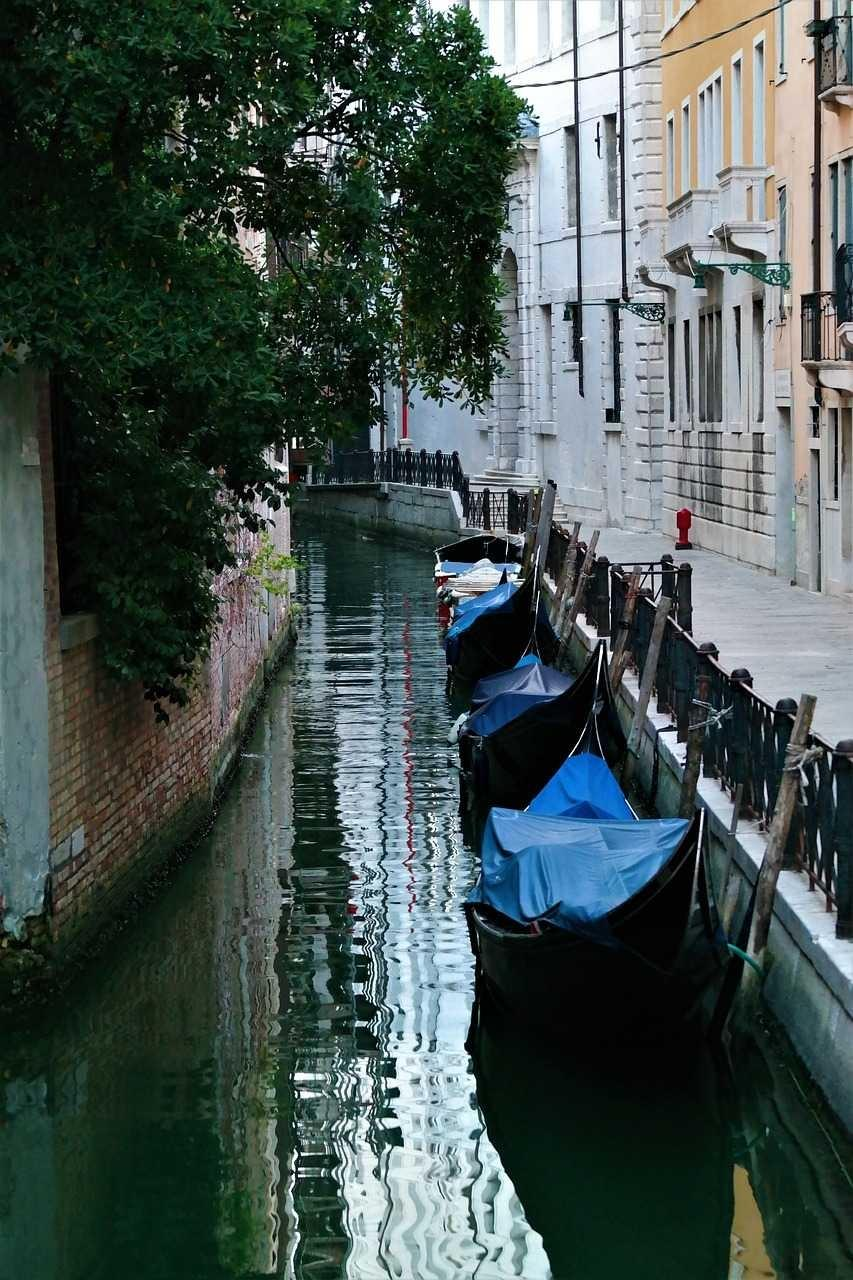kayak: (460, 485, 710, 965), (443, 574, 532, 679), (433, 530, 527, 593)
